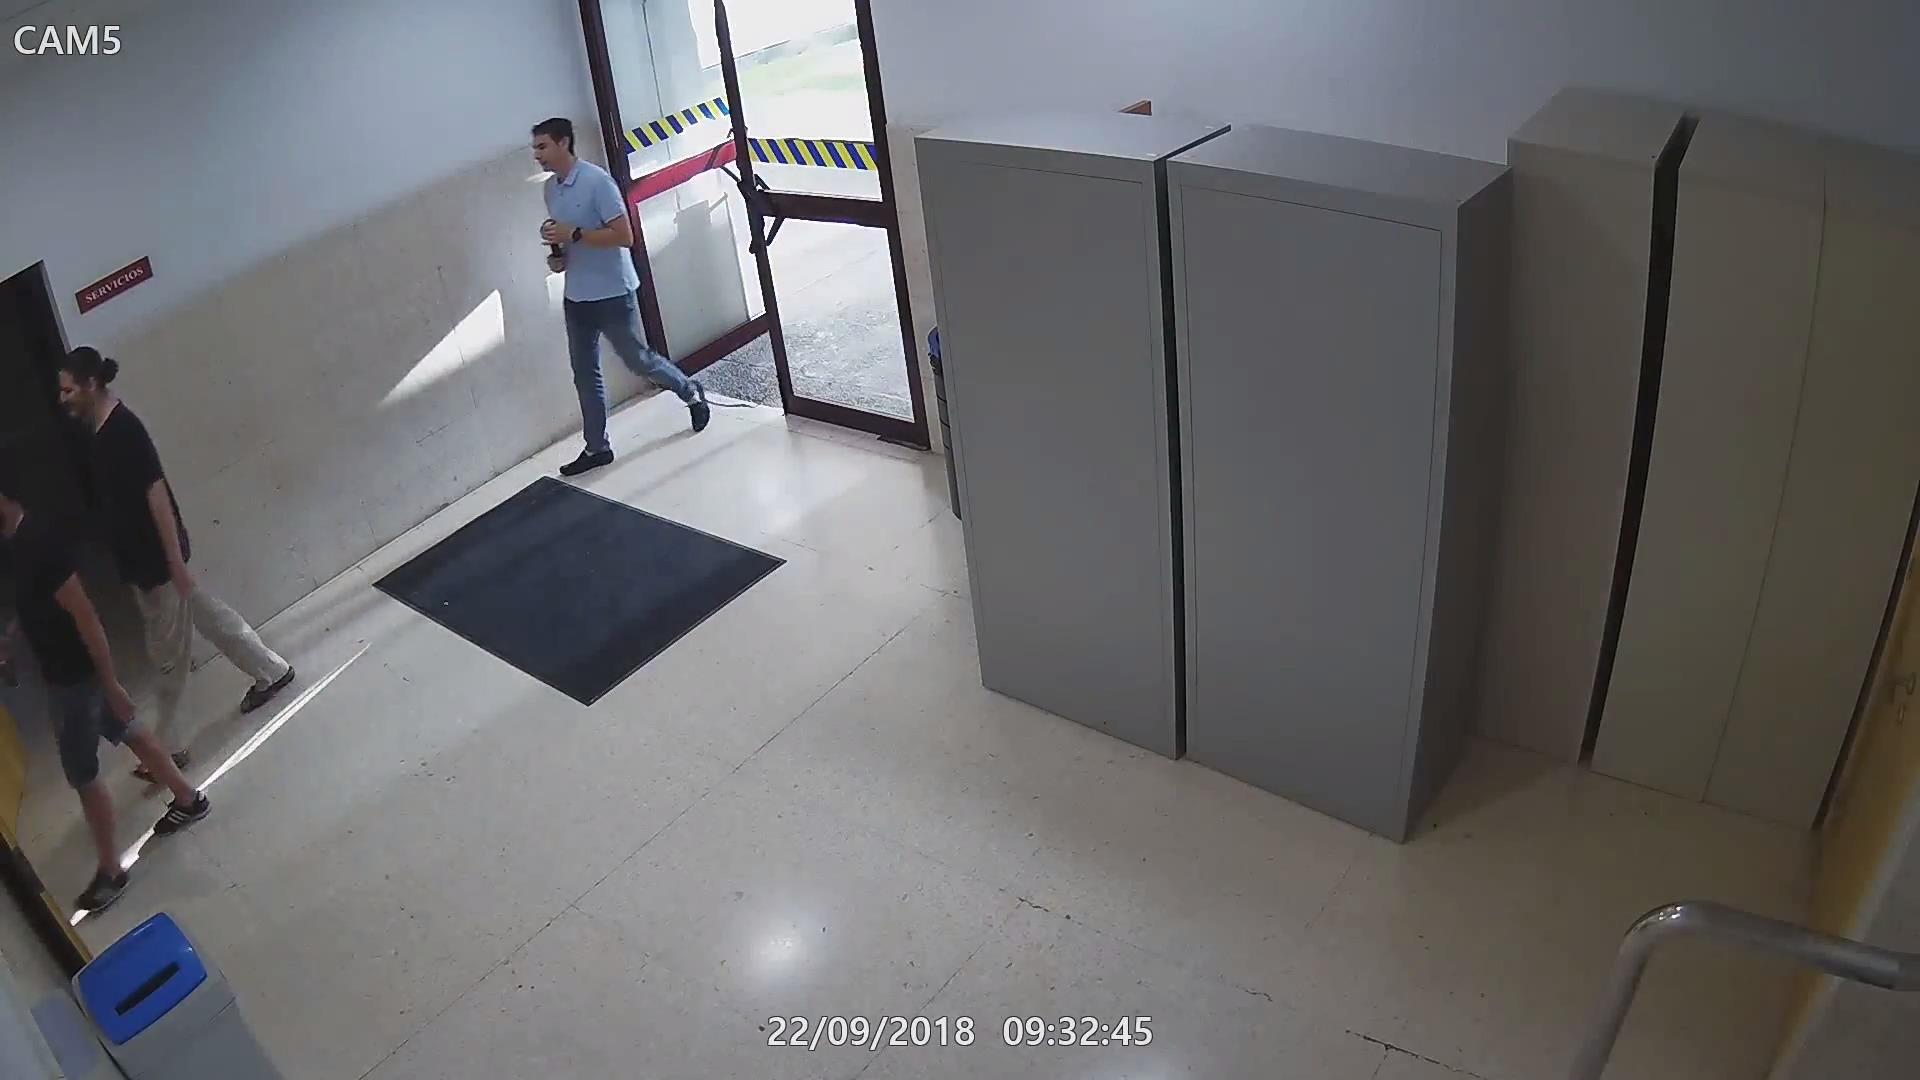Handgun: (0, 622, 24, 688)
